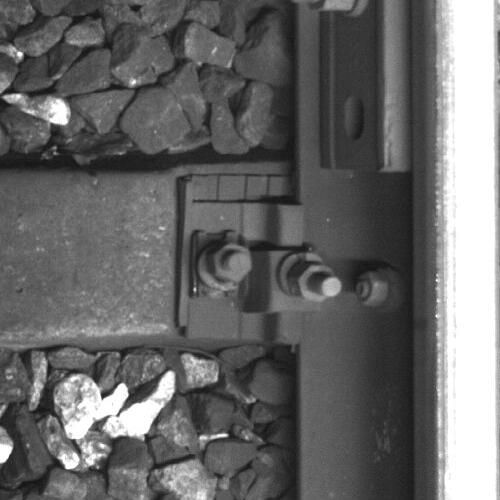fp_end: (320, 153, 412, 186)
kb: (189, 202, 342, 342)
nut: (291, 263, 341, 302), (212, 241, 252, 282)
rail: (433, 1, 500, 500)
tie_concr: (1, 171, 296, 334)
